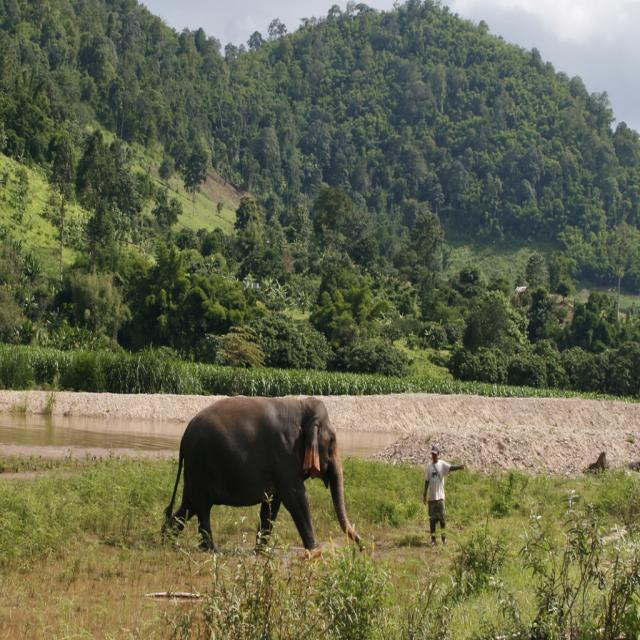Elephant: (161, 390, 365, 550)
